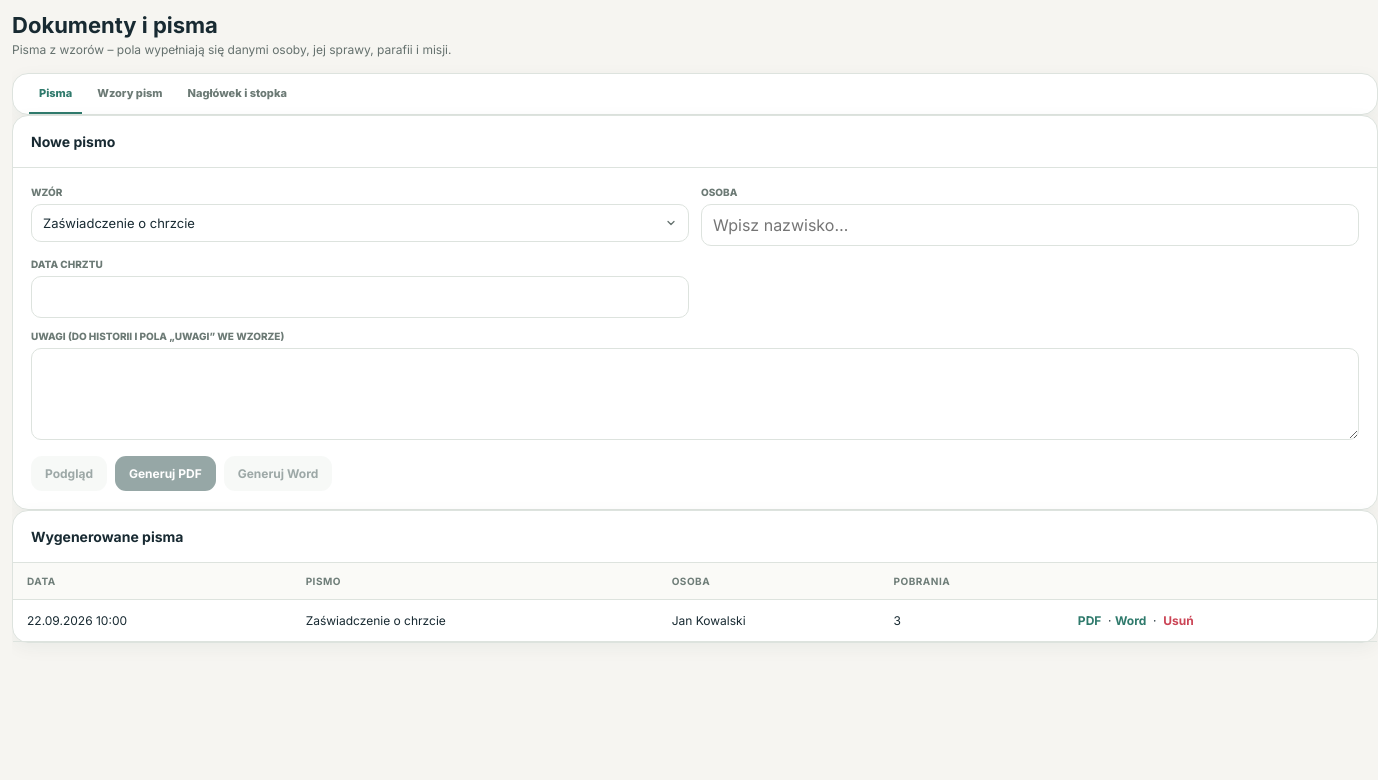
Scenario: DocumentsComponent › shows the template and letterhead tabs only to those who may edit templates
The image size is (1378, 780).
What coordinates should you click on to do the following:
click the button "Wzory pism"
I would click on:
 (130, 94)
Its box is [87,74,173,114].
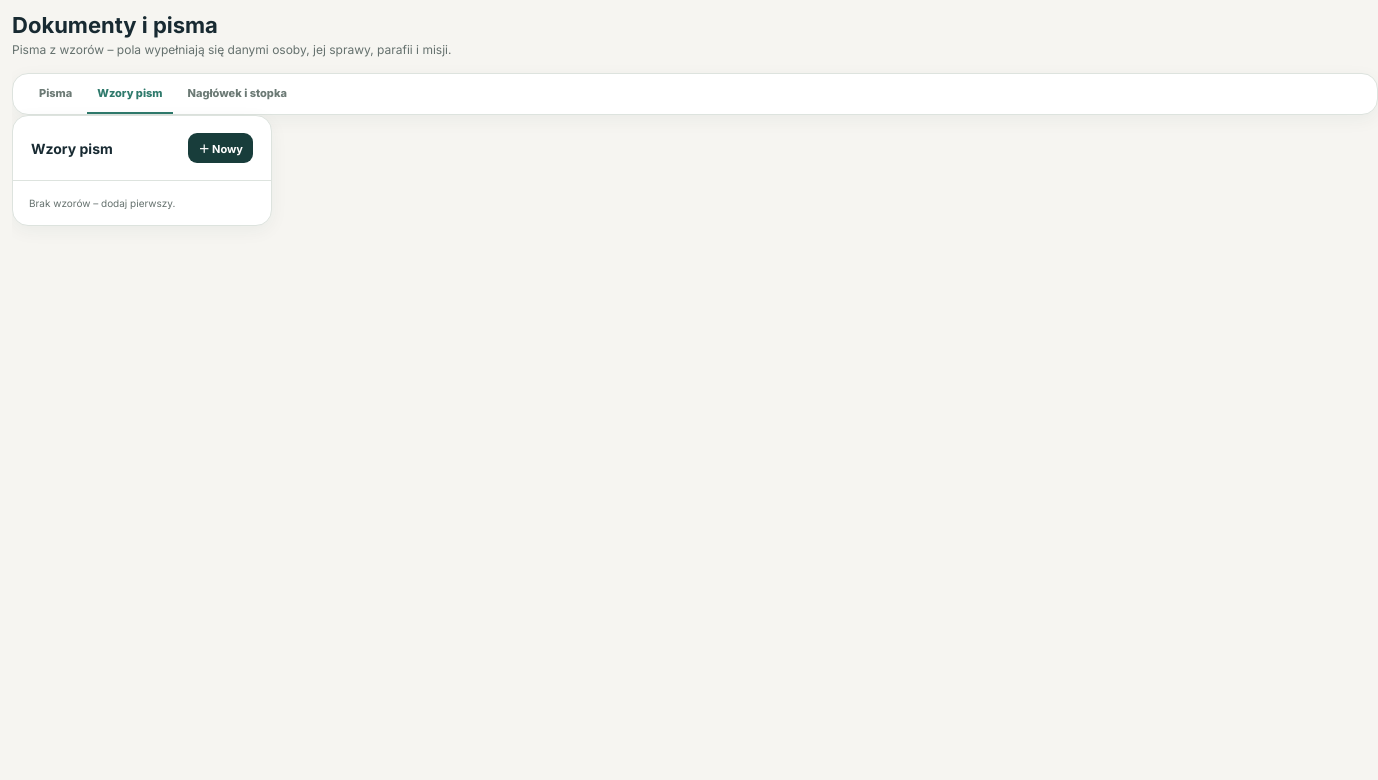
Now the element showing "Wzory pism ＋ Nowy Brak wzorów – dodaj pierwszy." is shown, box [12,115,272,226]
What coordinates should you click on to do the following:
click the button "Nagłówek i stopka"
I would click on:
 (237, 94)
Its box is [178,74,297,114].
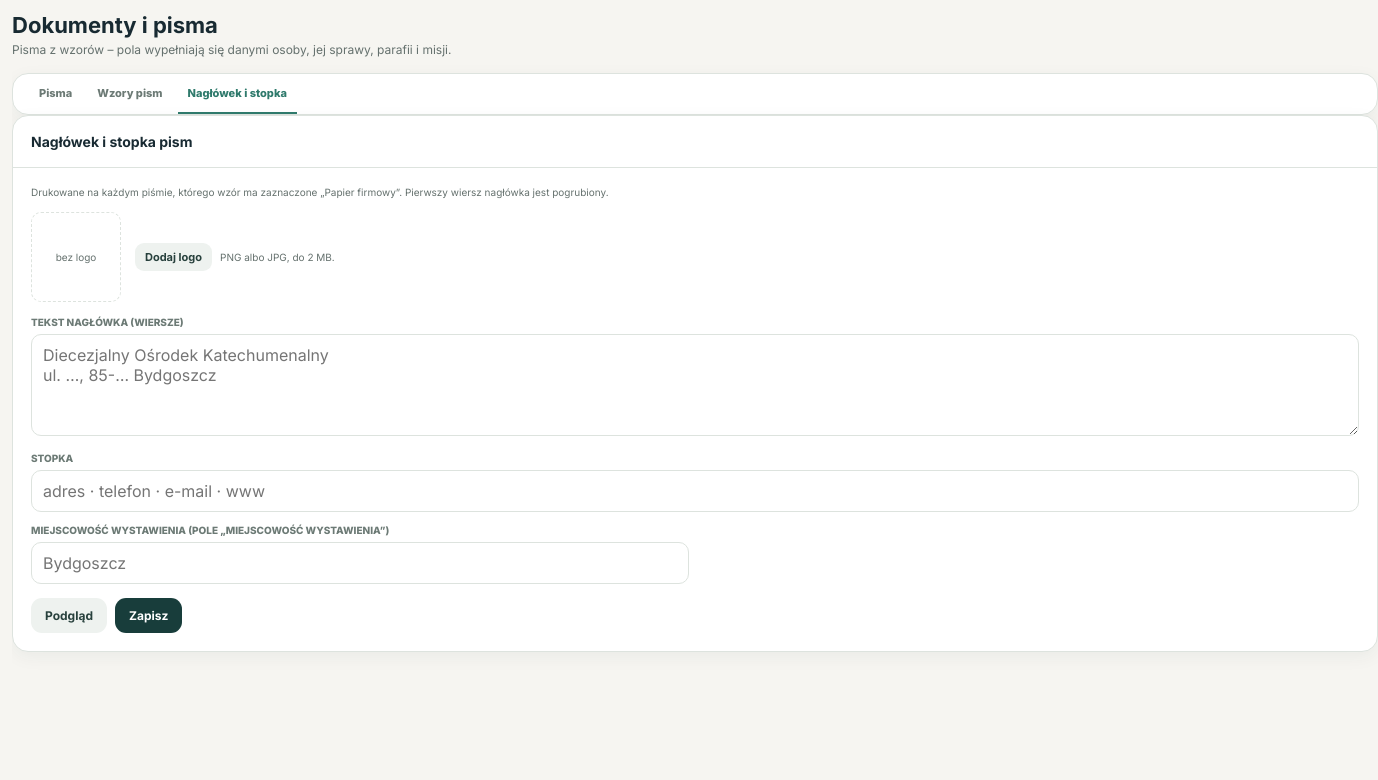
Now the element that starts with "Nagłówek i stopka pism" is shown
What coordinates should you click on to do the following:
click the button "Pisma"
I would click on:
 (56, 94)
Its box is [29,74,82,114].
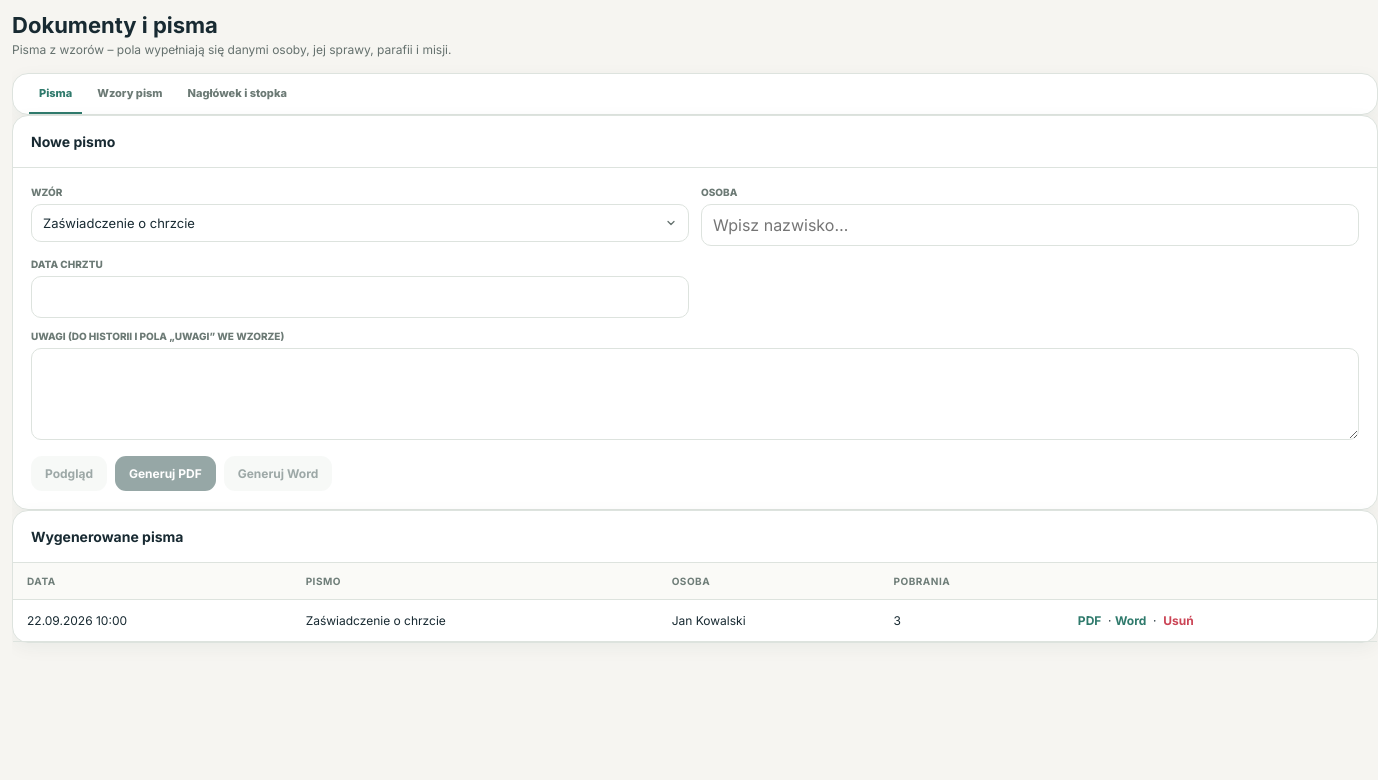
Now the text "Nowe pismo" is shown, box [31,133,115,150]
